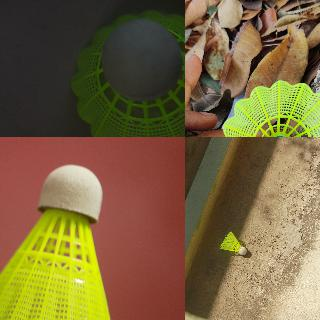shuttlecock: (0, 164, 113, 319), (71, 11, 184, 136), (218, 83, 319, 136), (220, 232, 246, 254)
